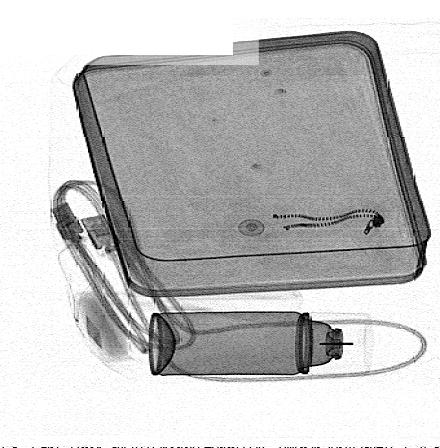Sprayer: (148, 311, 374, 376)
